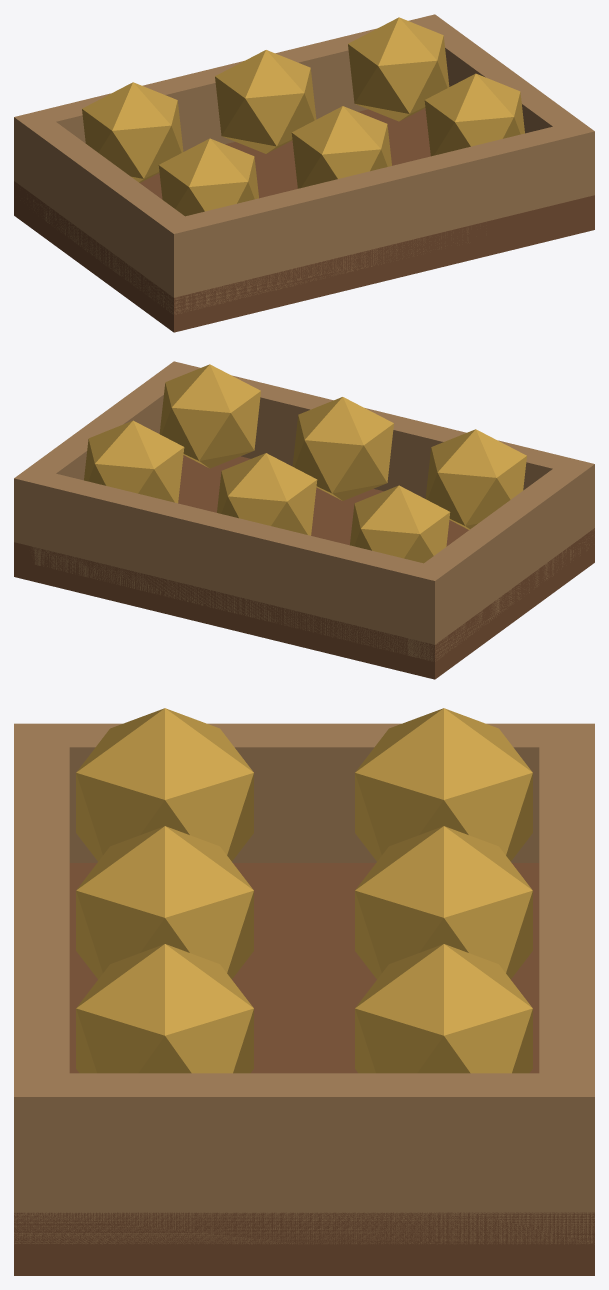
Rendered from set_orange_crate.glb.
The picture shows the model from 3 angles, top to bottom: view 1: azimuth 30°, elevation 25°; view 2: azimuth 150°, elevation 25°; view 3: azimuth 270°, elevation 25°; orthographic projection. The views are drawn at different scales.
Visible parts, largest first — view 1: set_orange_crate; view 2: set_orange_crate; view 3: set_orange_crate.
Part boxes in pixels (<box>): set_orange_crate: <box>14,14,594,332</box>; set_orange_crate: <box>14,361,594,679</box>; set_orange_crate: <box>14,708,594,1275</box>.
Size of the model in its own units: 0.38 by 0.125 by 0.25.
